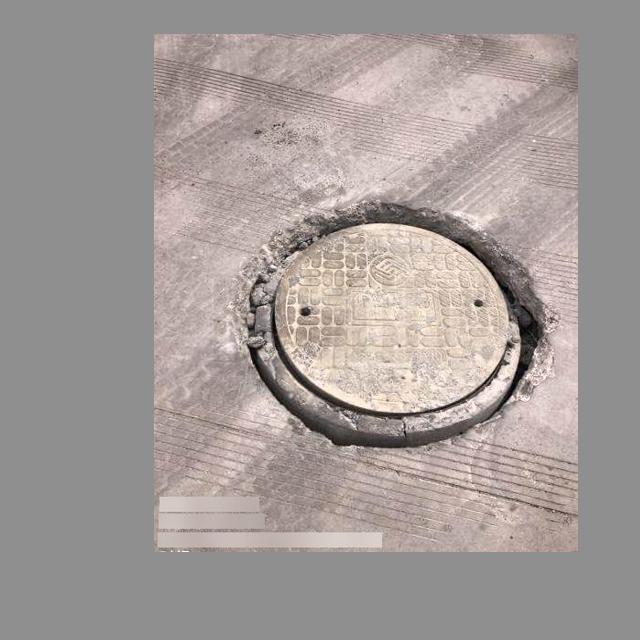circle: (239, 203, 542, 453)
